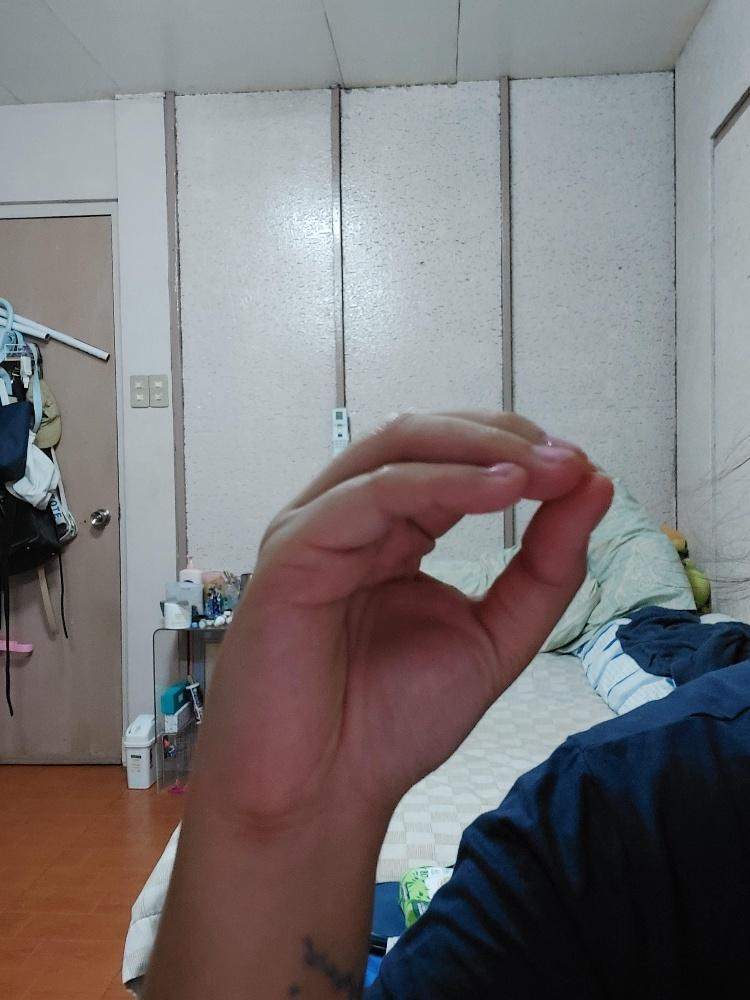o: (188, 408, 614, 818)
